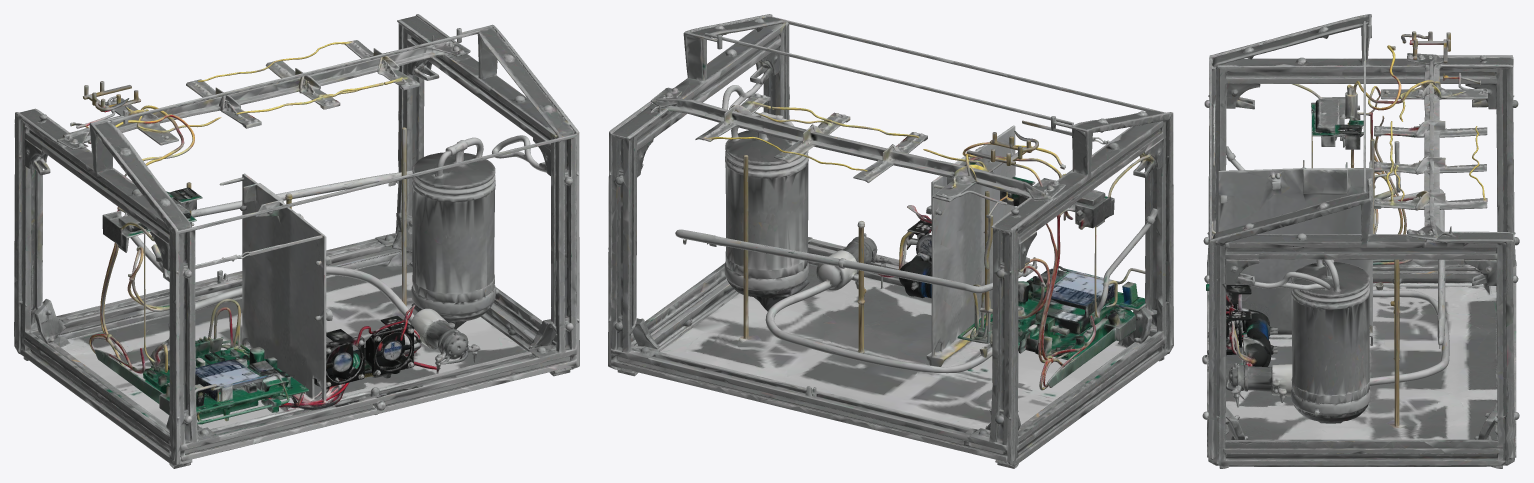
File: nhakinh.glb
3 views of the same model, side by side, from view 1: azimuth 30°, elevation 25°; view 2: azimuth 150°, elevation 25°; view 3: azimuth 270°, elevation 25° (orthographic). The views are drawn at different scales.
Bounding box in the file's own units: 1.9 × 1.32 × 1.37.
1 material, 1 textured.
